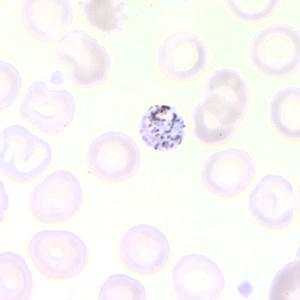Infected: (141, 104, 187, 150)
Uninfected: (17, 80, 76, 135), (0, 123, 53, 182), (27, 229, 89, 278), (57, 33, 111, 87), (28, 168, 81, 221), (87, 130, 141, 182), (249, 23, 300, 76), (249, 176, 298, 227), (121, 223, 169, 275), (203, 150, 254, 198), (172, 253, 224, 300), (21, 0, 77, 42), (161, 32, 205, 79), (205, 70, 247, 117), (193, 97, 235, 140), (0, 253, 35, 300), (98, 272, 148, 300), (271, 88, 300, 136)
